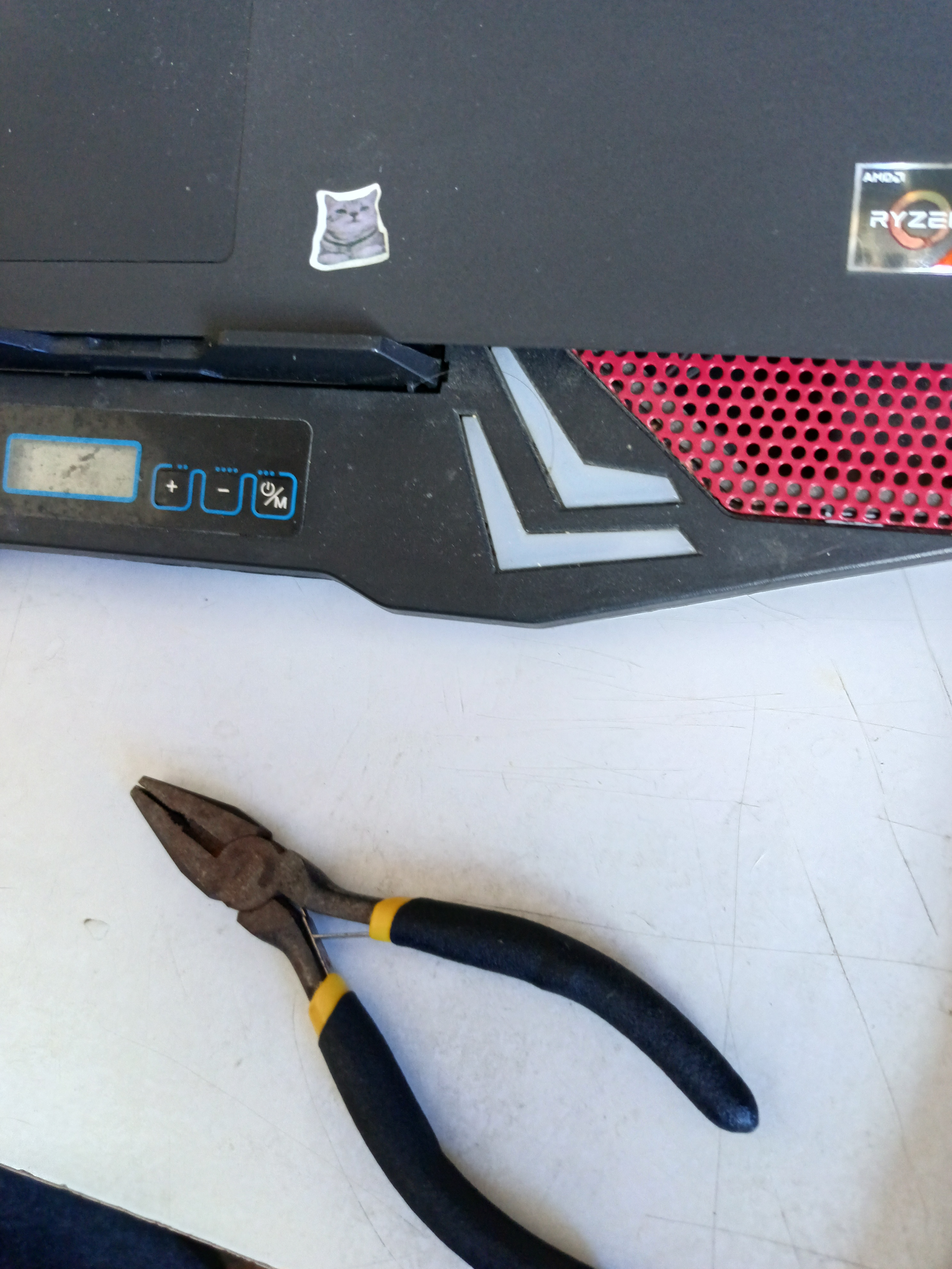Pinzas: (132, 777, 758, 1269)
